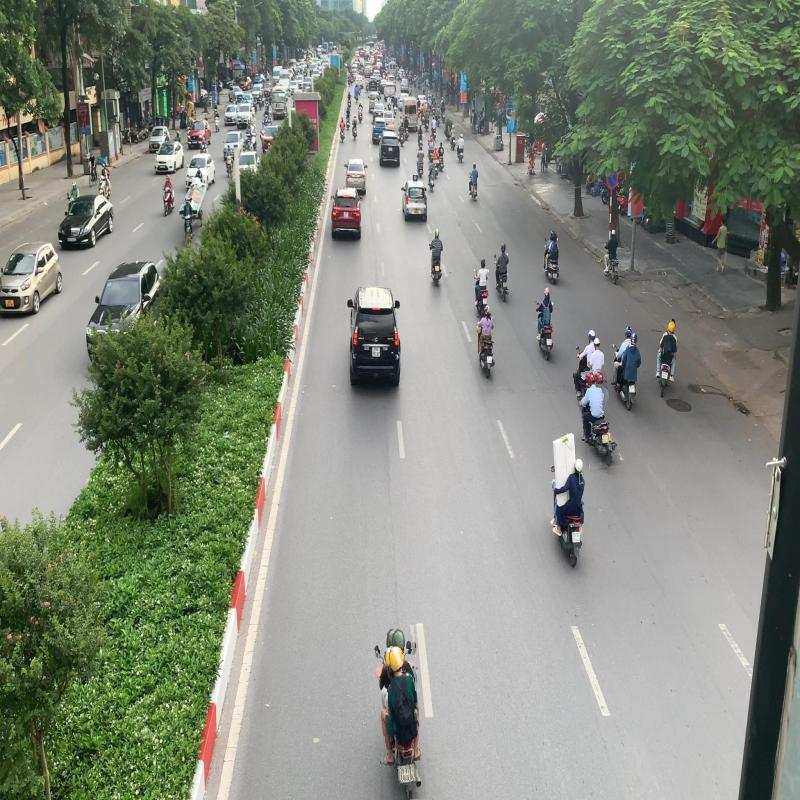helmet: (389, 646, 404, 672), (392, 627, 406, 652), (594, 370, 604, 384)
licenseplate: (398, 764, 412, 786), (602, 434, 609, 444)
motorcyclist: (375, 625, 423, 800), (578, 370, 618, 469)
